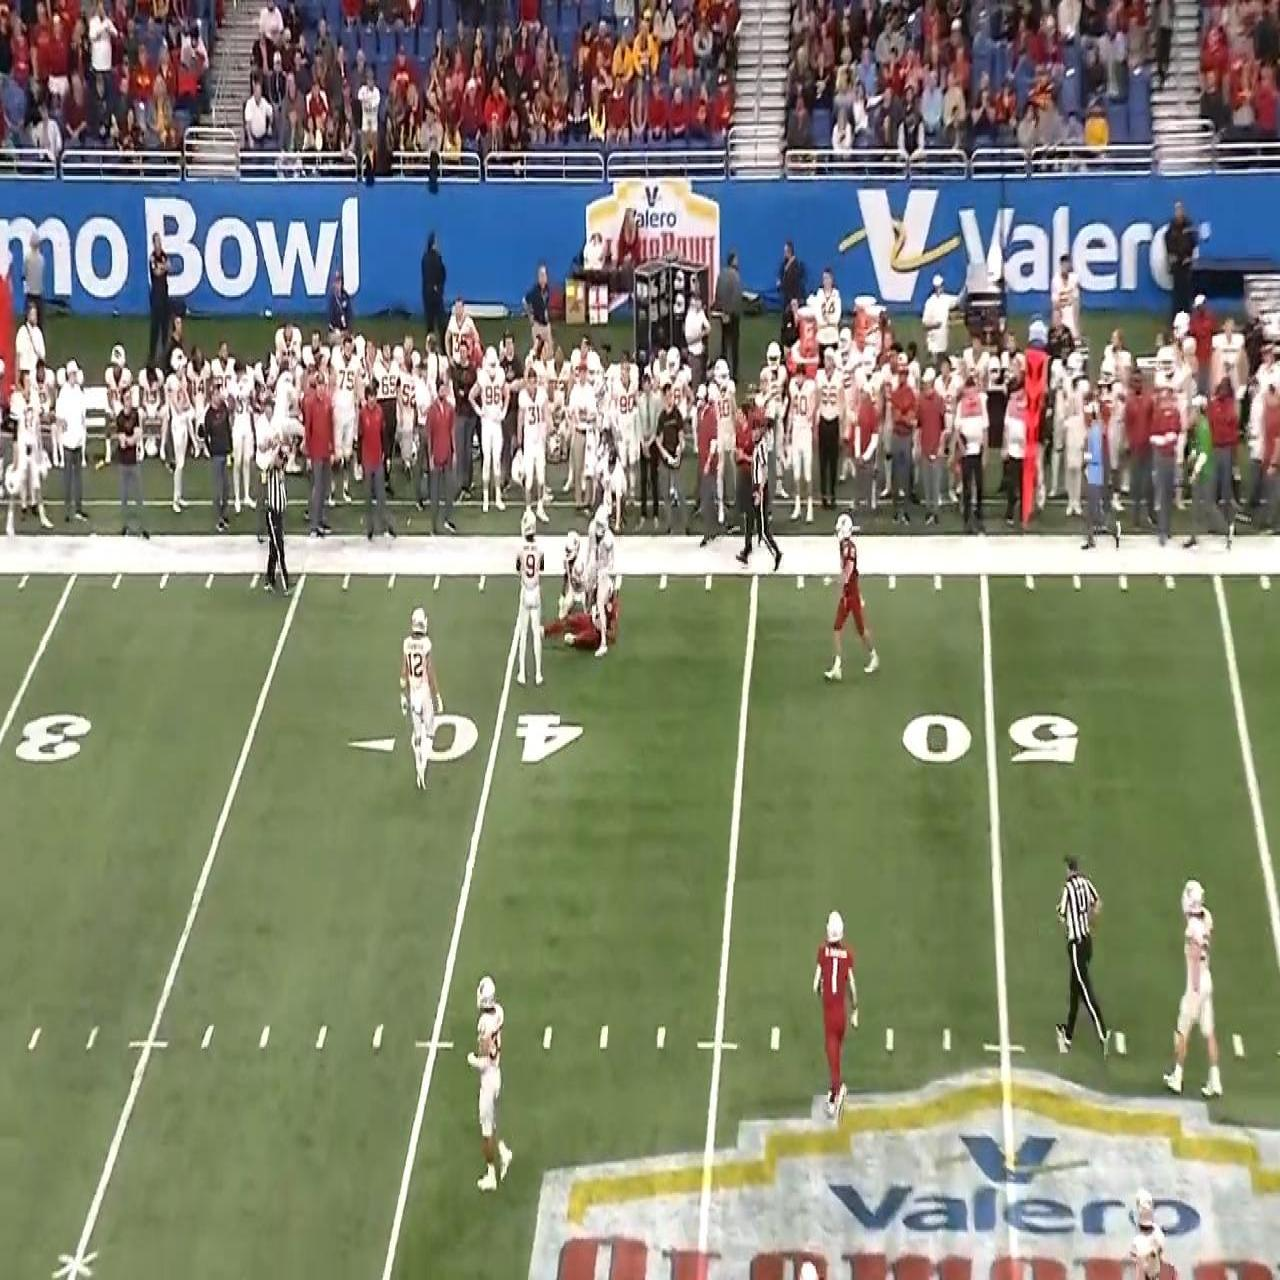30L: (0, 712, 93, 769)
40L: (343, 712, 584, 763)
50: (900, 714, 1080, 770)
